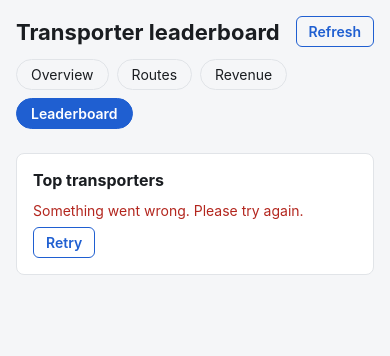
Test: TransporterLeaderboard › shows error + retry, then recovers
What coordinates should you click on to do the following:
click the button with test id "widget-leaderboard-retry"
I would click on:
 (64, 242)
Its box is [33,227,95,258].
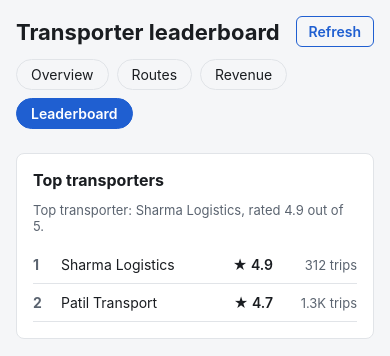
Result: the element with test id "leaderboard-row-t-1" is shown at [33,246,357,284]
